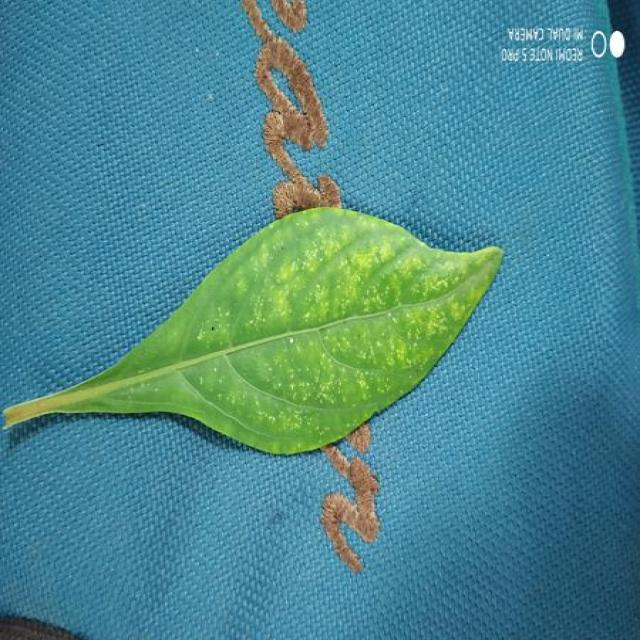Nelavembu: (5, 209, 502, 453)
